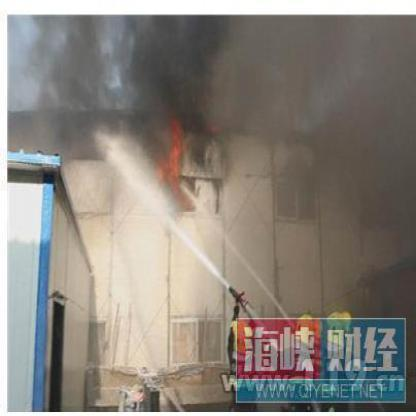smoke: (25, 13, 220, 127)
